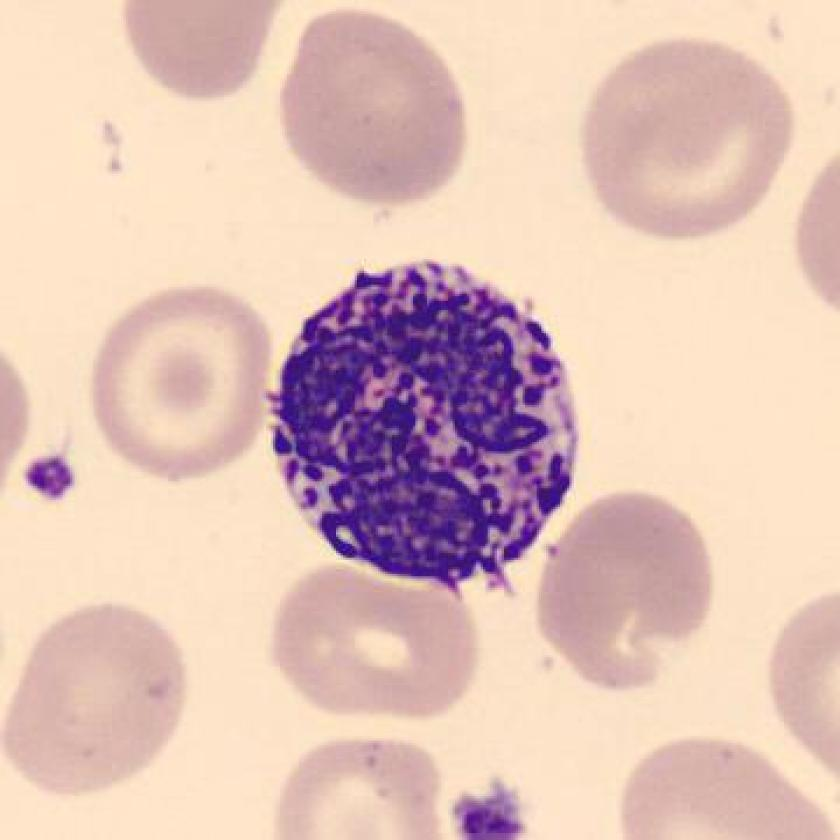basophil: (253, 256, 594, 598)
